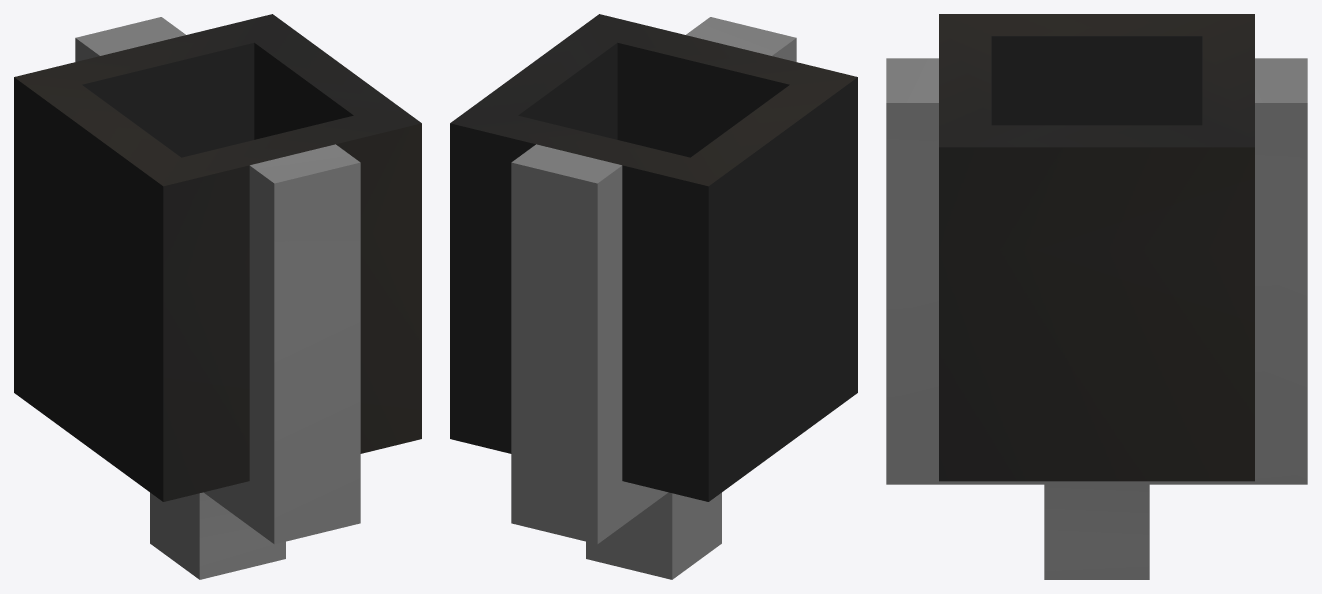
Rendered from Barrel_B3G_1_01.FBX.
3 views of the same model, side by side, from view 1: azimuth 30°, elevation 25°; view 2: azimuth 150°, elevation 25°; view 3: azimuth 270°, elevation 25° (orthographic). The views are drawn at different scales.
Parts seen in each view (by area): view 1: Barrel_B3G_Live_1_01, Barrel_B3G_Damage_1_03, Barrel_B3G_Damage_1_02, Barrel_B3G_Damage_1_01; view 2: Barrel_B3G_Live_1_01, Barrel_B3G_Damage_1_03, Barrel_B3G_Damage_1_02; view 3: Barrel_B3G_Damage_1_03, Barrel_B3G_Damage_1_02, Barrel_B3G_Live_1_01, Barrel_B3G_Damage_1_01.
Part boxes in pixels (<box>): Barrel_B3G_Live_1_01: <box>14,38,353,579</box>; Barrel_B3G_Damage_1_03: <box>14,14,421,501</box>; Barrel_B3G_Damage_1_02: <box>75,17,360,544</box>; Barrel_B3G_Damage_1_01: <box>199,492,285,579</box>; Barrel_B3G_Live_1_01: <box>450,38,857,579</box>; Barrel_B3G_Damage_1_03: <box>450,14,857,186</box>; Barrel_B3G_Damage_1_02: <box>511,17,796,183</box>; Barrel_B3G_Damage_1_03: <box>939,14,1254,481</box>; Barrel_B3G_Damage_1_02: <box>886,58,1307,484</box>; Barrel_B3G_Live_1_01: <box>991,36,1202,125</box>; Barrel_B3G_Damage_1_01: <box>1044,484,1149,579</box>.
Size of the model in its own units: 0.63 by 0.84 by 1.05.
